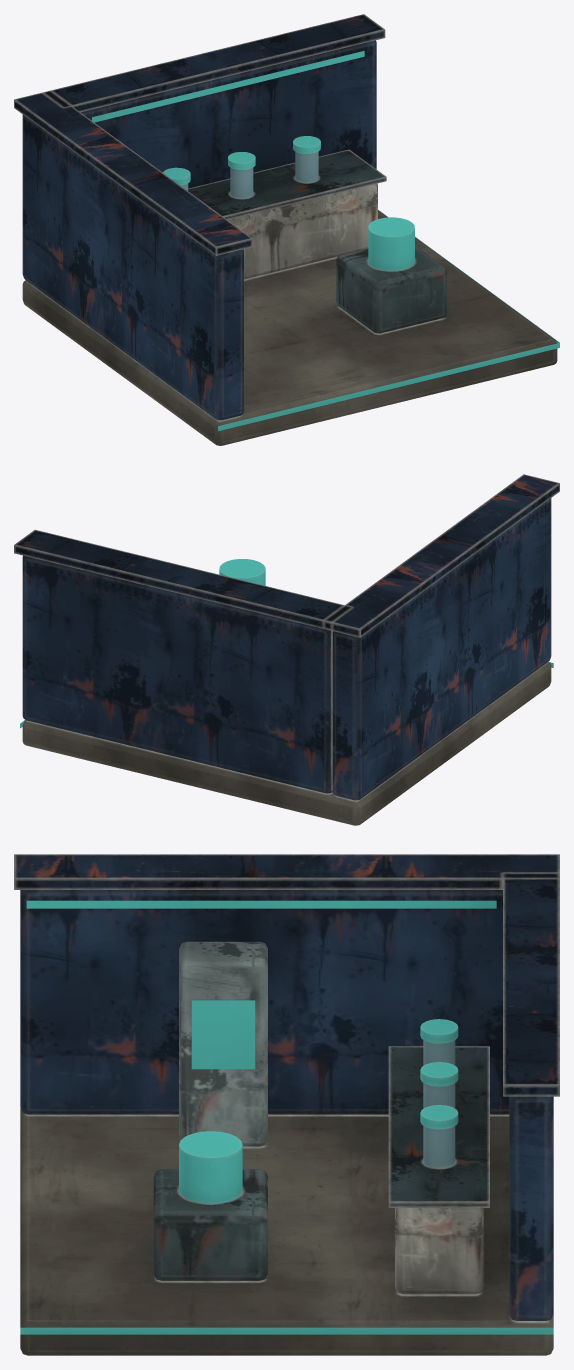
File: research_lab.glb
3 renders of one model, top to bottom at view 1: azimuth 30°, elevation 25°; view 2: azimuth 150°, elevation 25°; view 3: azimuth 270°, elevation 25°, orthographic. The views are drawn at different scales.
Parts seen in each view (by area): view 1: te_research_lab; view 2: te_research_lab; view 3: te_research_lab.
Boxes of the visible parts, x1,y1,x2,y2 form: te_research_lab: (14,14,559,445); te_research_lab: (14,474,559,825); te_research_lab: (14,854,559,1355).
Size of the model in its own units: 0.86 by 0.48 by 0.86.
1 material, 1 textured.
